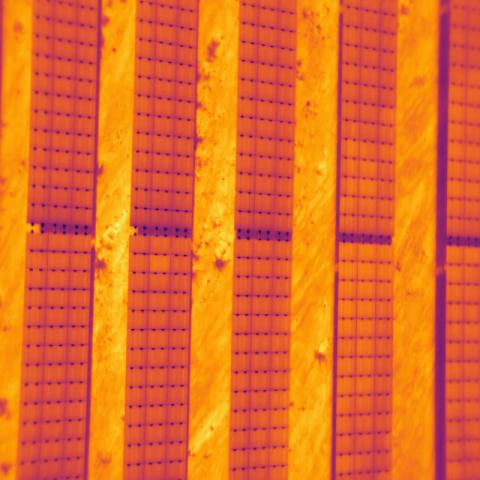fault: (150, 254, 170, 273)
